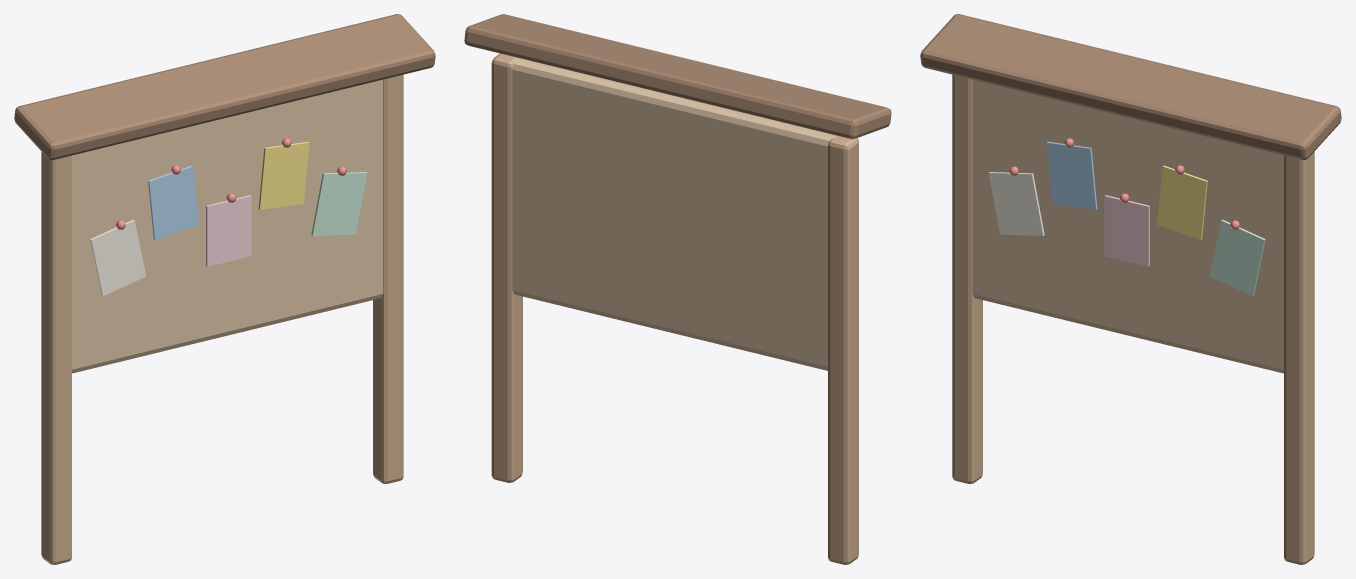
File: notice_board.glb
3 renders of one model, left to right at view 1: azimuth 30°, elevation 25°; view 2: azimuth 150°, elevation 25°; view 3: azimuth 330°, elevation 25°, orthographic.
Visible parts, largest first — view 1: notice_board; view 2: notice_board; view 3: notice_board.
Part boxes in pixels (left/top/right/bottom): notice_board: left=14, top=14, right=435, bottom=564; notice_board: left=464, top=14, right=891, bottom=564; notice_board: left=920, top=14, right=1341, bottom=564.
Size of the model in its own units: 1.75 by 1.95 by 0.302.
